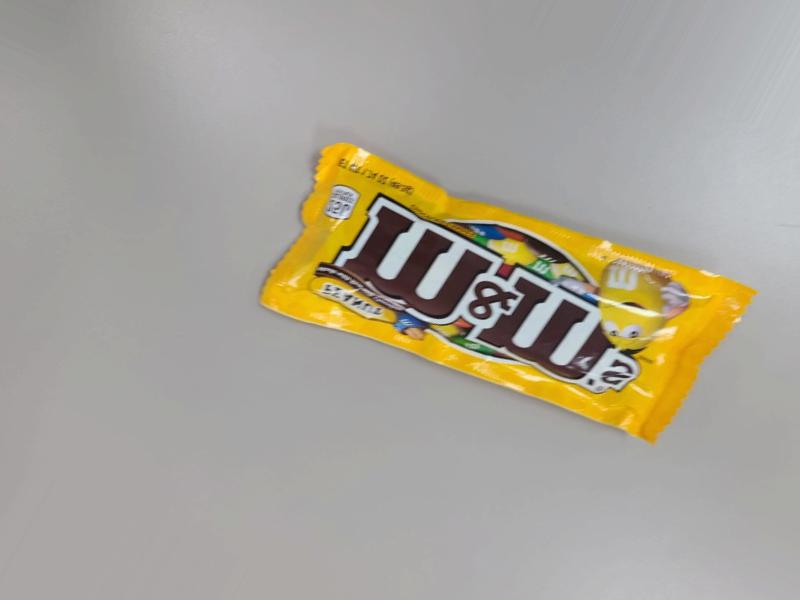m&m: (269, 128, 760, 453)
